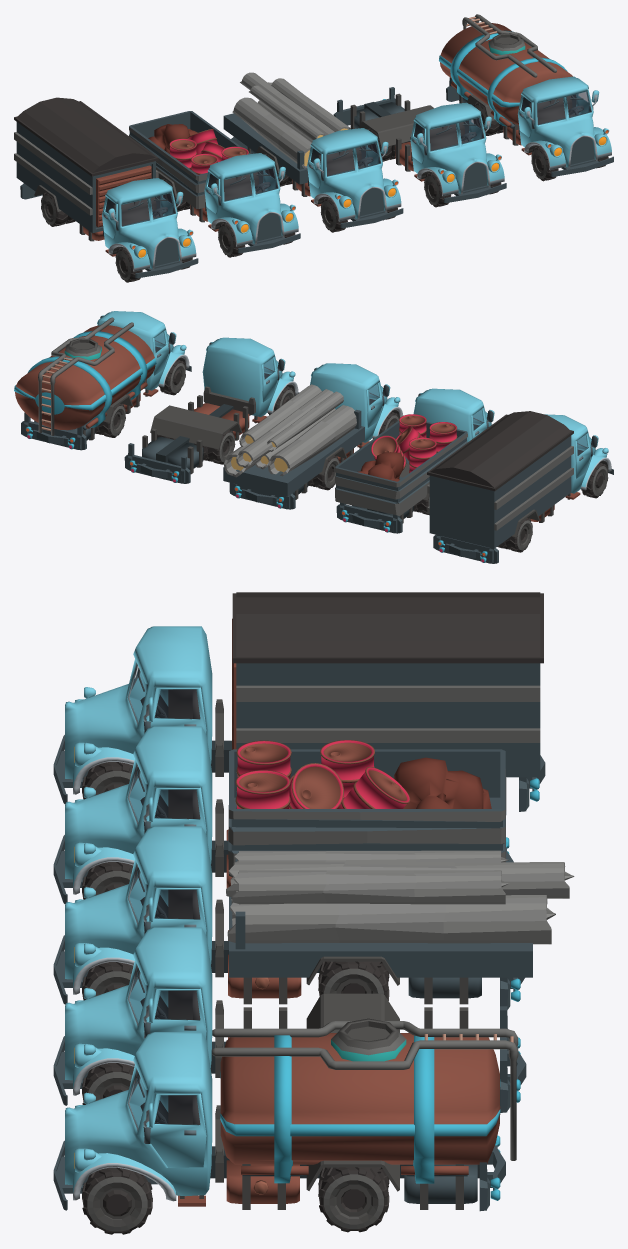
Rendered from trucks_collection.glb.
3 renders of one model, top to bottom at view 1: azimuth 30°, elevation 25°; view 2: azimuth 150°, elevation 25°; view 3: azimuth 270°, elevation 25°, orthographic. The views are drawn at different scales.
Visible parts, largest first — view 1: Truck_Trailer3.001, Truck_Tanker.001, Truck_body, Truck_body.003, Truck_body.004, Truck_body.001, Truck_body.002, Prop2, Truck_Trailer2, Prop1, Truck_Trailler1, Truck_WheelCover.004 (+20 smaller); view 2: Truck_Trailer3.001, Truck_Tanker.001, Prop2, Truck_Trailer2, Truck_body.004, Prop1, Truck_body.001, Truck_Trailler1, Truck_body, Truck_WheelCover.004, Truck_body.002, Truck_body.003 (+18 smaller); view 3: Truck_Trailer3.001, Truck_Tanker.001, Prop2, Truck_Trailer2, Truck_body.002, Prop1, Truck_body.004, Truck_body.001, Truck_body, Truck_body.003, Truck_Trailler1, Truck_Wheel_Back.002 (+23 smaller).
Part boxes in pixels (<box>): Truck_Trailer3.001: <box>14,97,158,233</box>; Truck_Tanker.001: <box>439,14,572,128</box>; Truck_body: <box>205,153,298,246</box>; Truck_body.003: <box>103,178,196,271</box>; Truck_body.004: <box>411,102,504,196</box>; Truck_body.001: <box>308,128,401,221</box>; Truck_body.002: <box>519,76,611,170</box>; Prop2: <box>232,72,350,168</box>; Truck_Trailer2: <box>129,111,250,208</box>; Prop1: <box>148,124,248,174</box>; Truck_Trailler1: <box>223,113,308,184</box>; Truck_WheelCover.004: <box>359,105,433,147</box>; Truck_Trailer3.001: <box>427,411,573,548</box>; Truck_Tanker.001: <box>14,317,156,435</box>; Prop2: <box>223,384,356,477</box>; Truck_Trailer2: <box>334,420,467,515</box>; Truck_body.004: <box>203,337,298,423</box>; Prop1: <box>357,414,457,481</box>; Truck_body.001: <box>310,363,403,448</box>; Truck_Trailler1: <box>223,409,364,496</box>; Truck_body: <box>414,388,494,442</box>; Truck_WheelCover.004: <box>150,405,242,449</box>; Truck_body.002: <box>97,311,189,396</box>; Truck_body.003: <box>545,414,611,499</box>; Truck_Trailer3.001: <box>232,592,543,777</box>; Truck_Tanker.001: <box>212,1018,518,1183</box>; Prop2: <box>226,850,574,944</box>; Truck_Trailer2: <box>228,749,506,876</box>; Truck_body.002: <box>65,1032,212,1206</box>; Prop1: <box>235,740,491,808</box>; Truck_body.004: <box>65,927,212,1095</box>; Truck_body.001: <box>65,826,212,994</box>; Truck_body: <box>65,726,212,894</box>; Truck_body.003: <box>65,626,212,794</box>; Truck_Trailler1: <box>229,859,532,977</box>; Truck_Wheel_Back.002: <box>318,1167,389,1232</box>.
Size of the model in its own units: 3363 by 634 by 1539.
4 materials, 3 textured.
